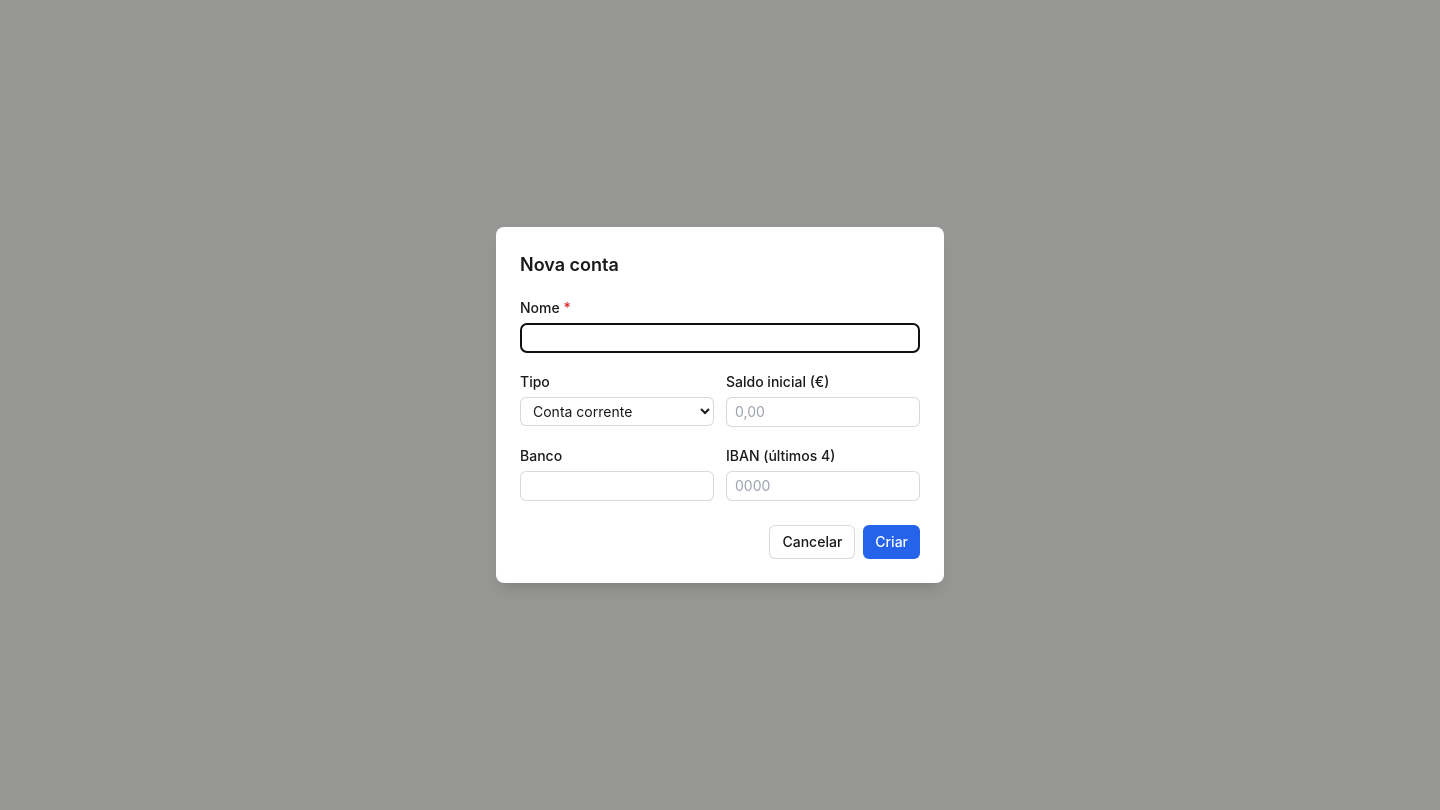
Test: <NewAccountModal> › IBAN inválido bloqueia submit e mostra erro — sem POST
The image size is (1440, 810).
Type "CGD" into the field named "Nome da conta" at (720, 338), box [520,323,920,353]
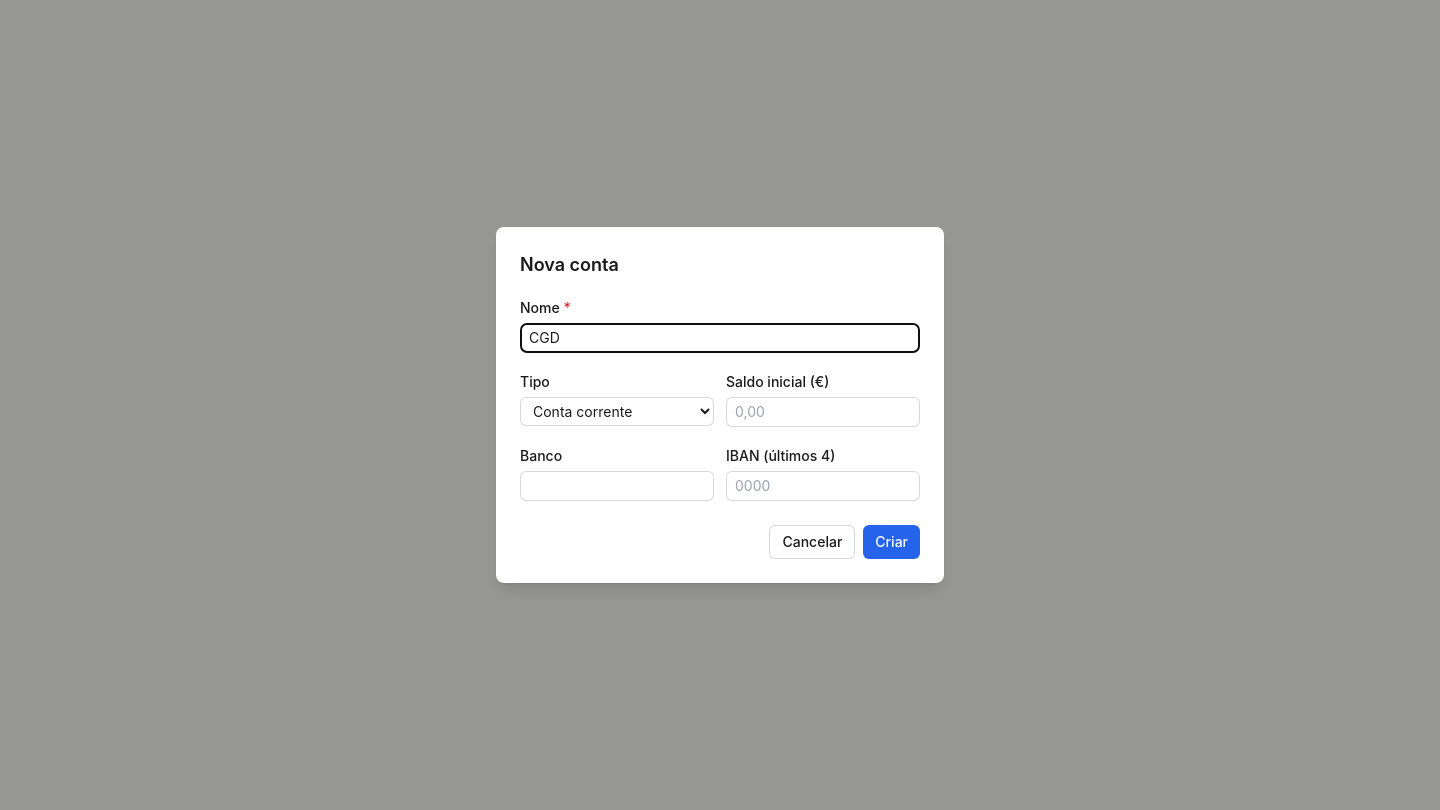
Type "12a" into the field named "IBAN (últimos 4 dígitos)" at (823, 486), box [726,471,920,501]
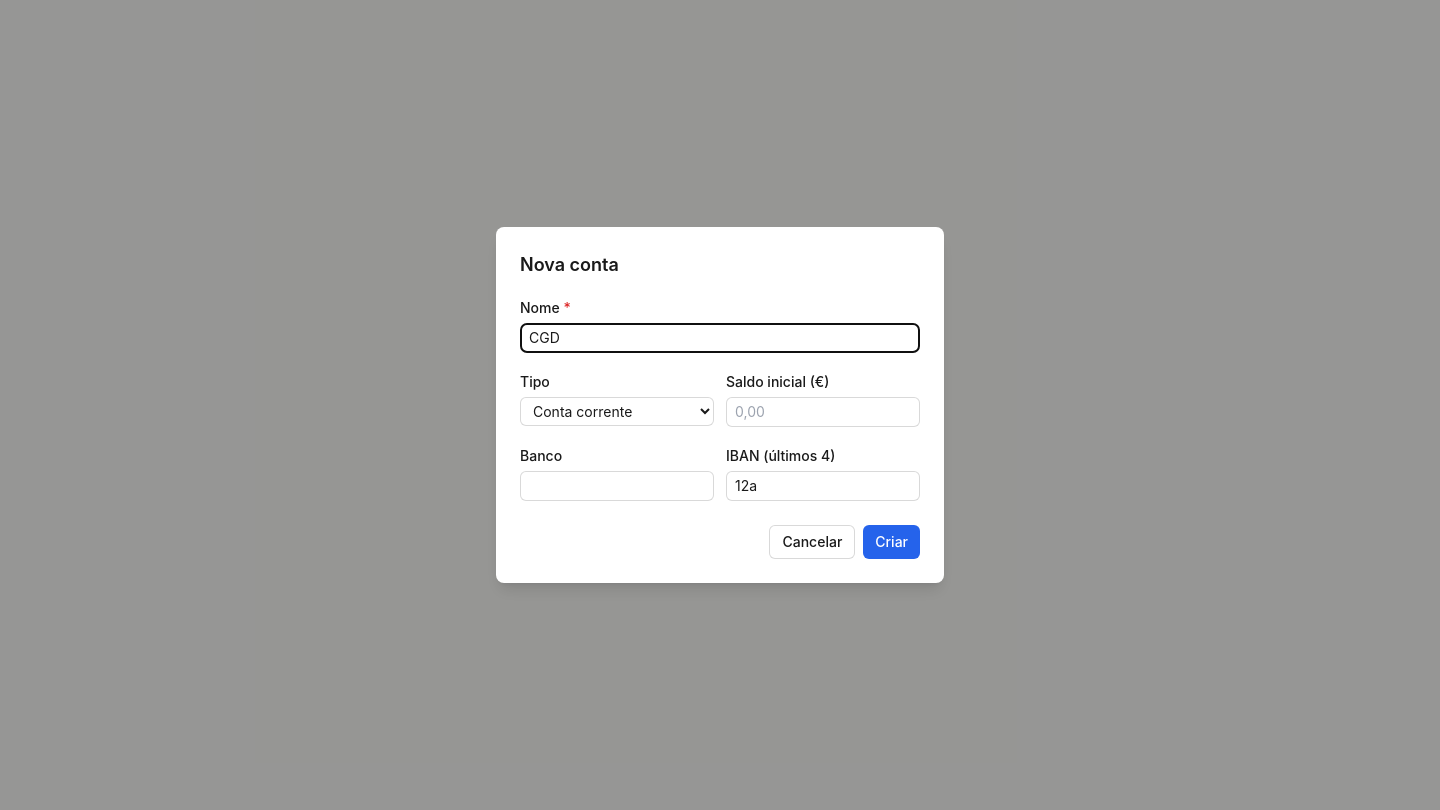
Click the button "Criar" at (892, 542), box [863,525,920,559]
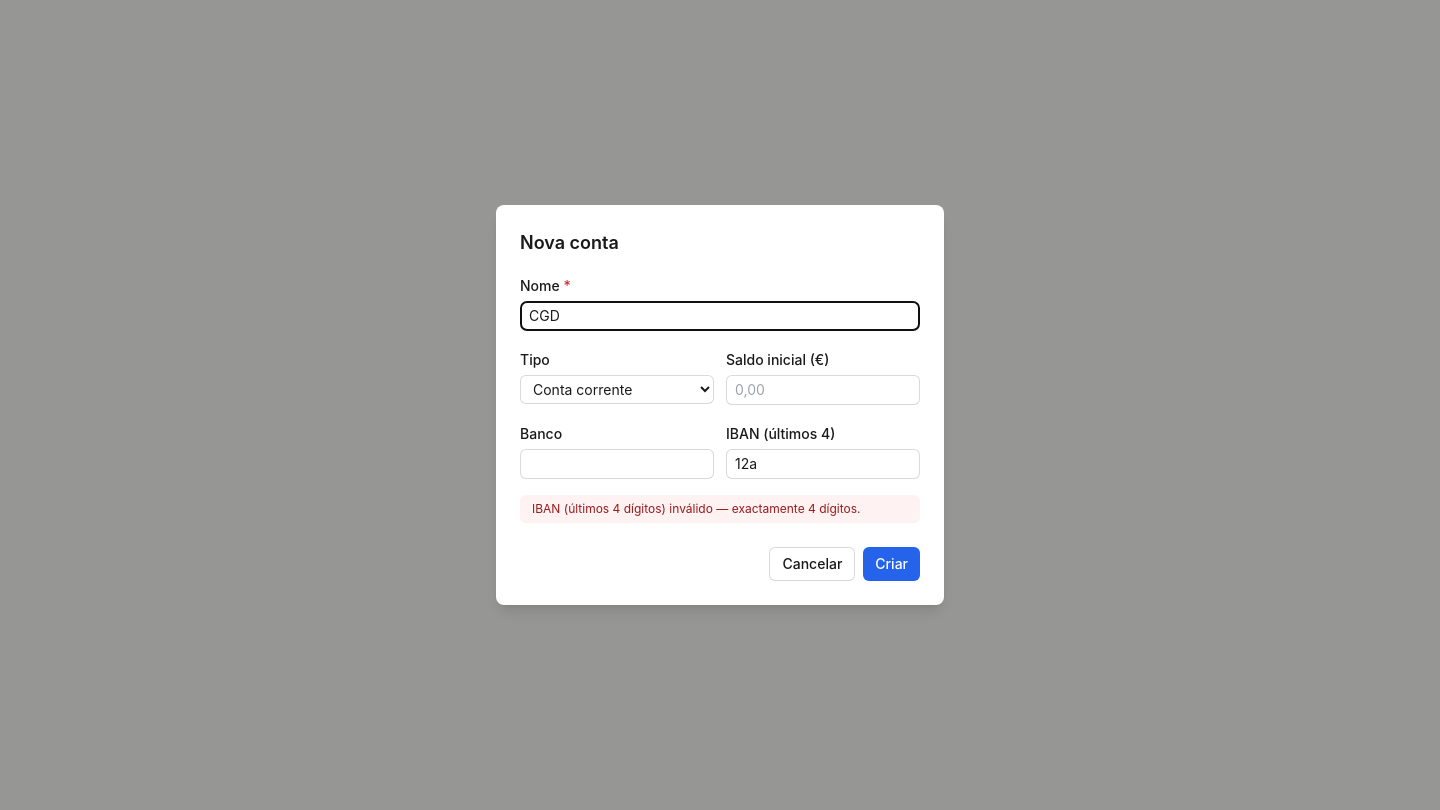
expect the message shows "IBAN": met, box [532,501,860,516]
